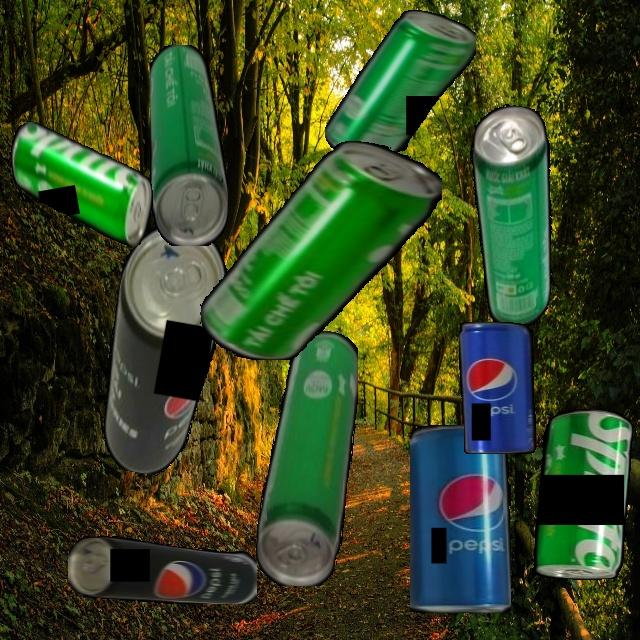debris: (200, 140, 442, 360), (89, 219, 236, 482), (442, 100, 581, 332), (255, 330, 358, 586), (5, 103, 161, 265), (325, 9, 476, 160), (503, 408, 633, 580), (409, 425, 511, 613), (149, 44, 228, 246), (68, 535, 257, 604), (459, 321, 536, 454)
